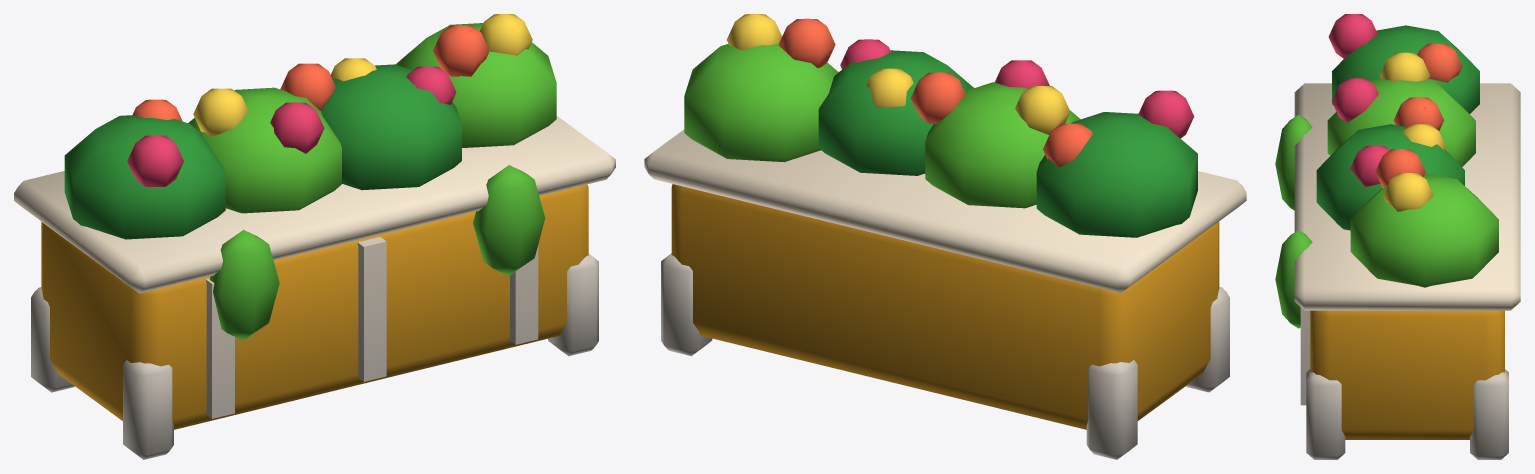
Rendered from planter.glb.
3 views of the same model, side by side, from view 1: azimuth 30°, elevation 25°; view 2: azimuth 150°, elevation 25°; view 3: azimuth 270°, elevation 25° (orthographic). The views are drawn at different scales.
Visible parts, largest first — view 1: planter; view 2: planter; view 3: planter.
Part boxes in pixels (bbox=[...]): planter: bbox=[14, 14, 615, 459]; planter: bbox=[644, 14, 1246, 459]; planter: bbox=[1275, 14, 1520, 459].
Size of the model in its own units: 1.28 by 0.7805 by 0.63.
